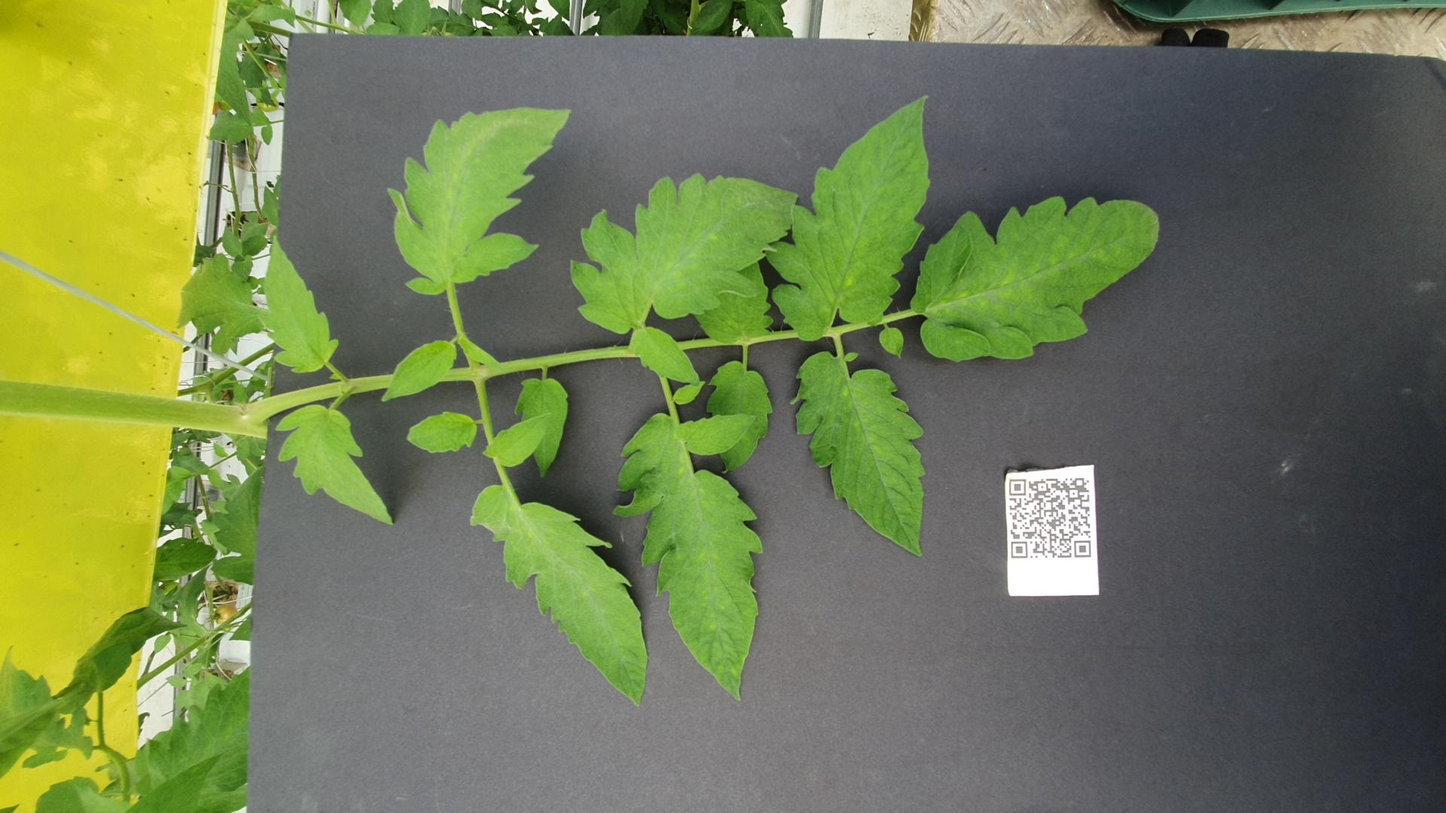Healthy: (760, 320, 1139, 450), (201, 343, 718, 429), (798, 514, 1101, 655), (839, 430, 1276, 524), (189, 263, 587, 363), (918, 217, 1258, 321), (454, 444, 822, 521), (515, 154, 729, 220), (781, 144, 1030, 192), (817, 98, 997, 148), (728, 212, 845, 258), (595, 291, 774, 320), (612, 271, 716, 312), (641, 227, 717, 269), (408, 85, 493, 122), (988, 124, 1048, 138)
